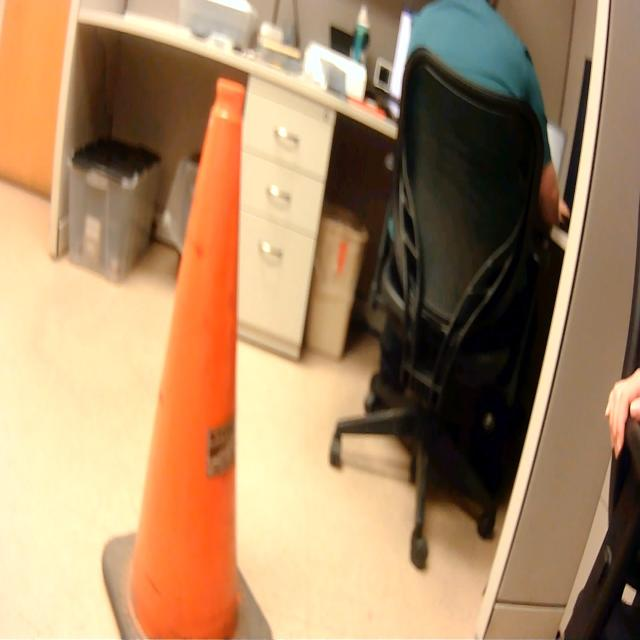traffic cone: (99, 73, 284, 640)
